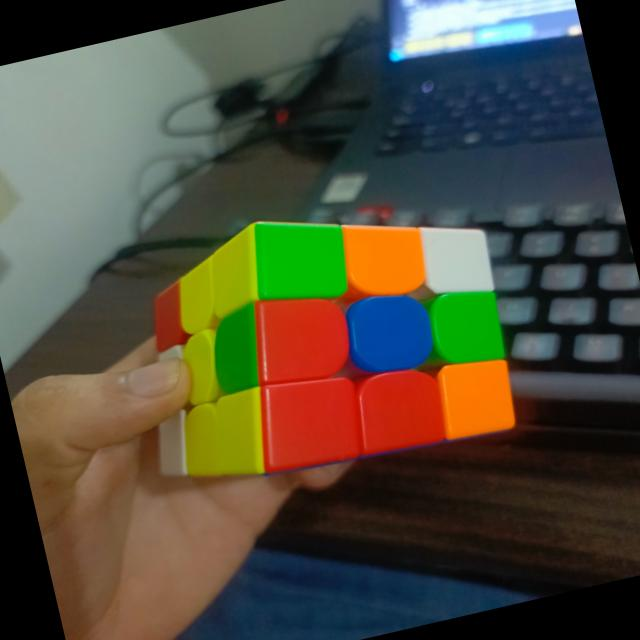rubik: (108, 170, 530, 510)
